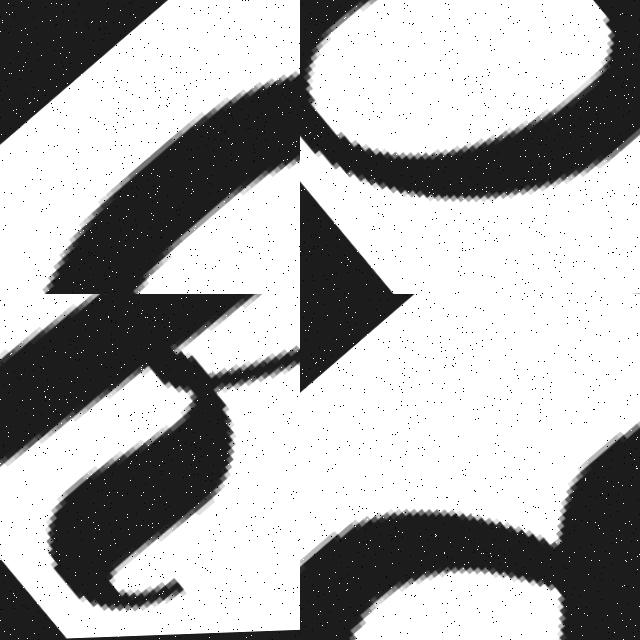6: (300, 0, 640, 294)
8: (300, 294, 640, 640)
K: (0, 294, 300, 640)
O: (47, 72, 300, 294)
